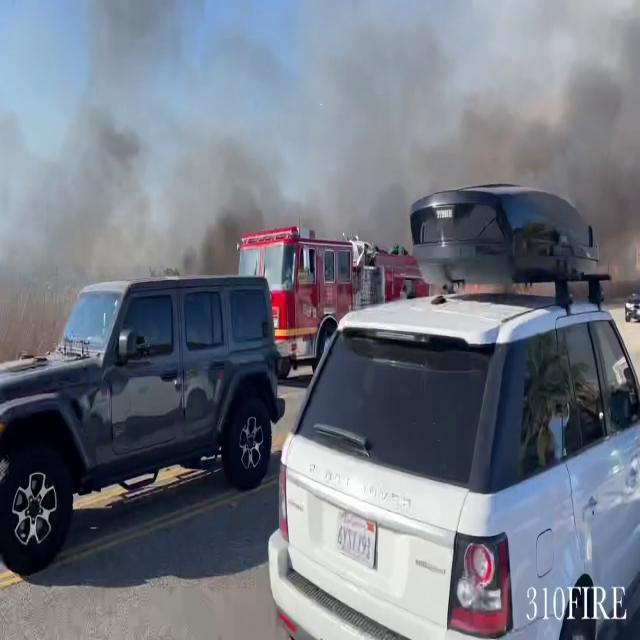Smoke: (294, 0, 640, 253), (5, 0, 306, 268)
